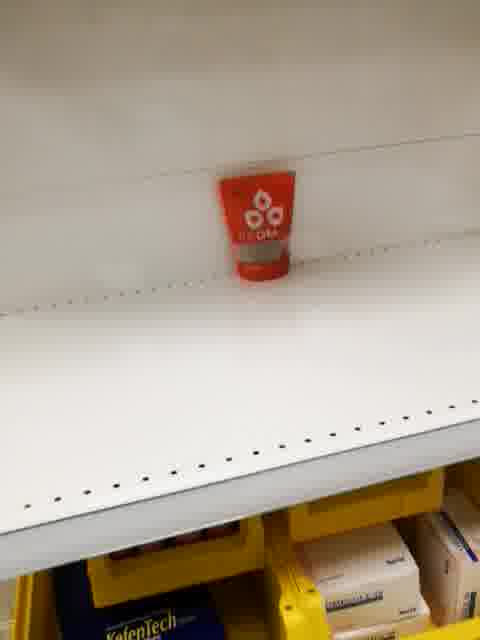whitechia: (217, 167, 299, 285)
